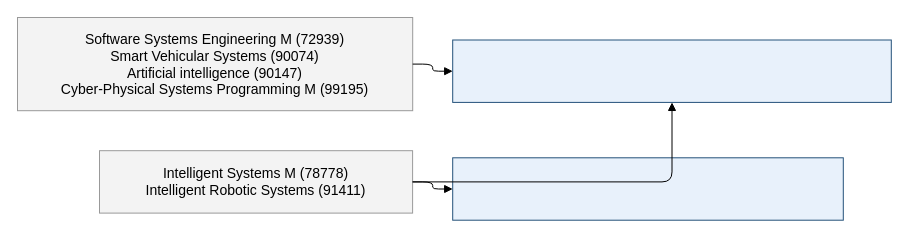
Some shapes in this 909 by 238 pixel diagram are drawn without their labels. Each missing label, with the box of its shape:
Advanced Robot Design and Swarm Intelligence 3 ECTS: (452, 157, 843, 220)
Robotics Foundations and Autonomous Robot Behavior 6 ECTS: (452, 39, 891, 102)
